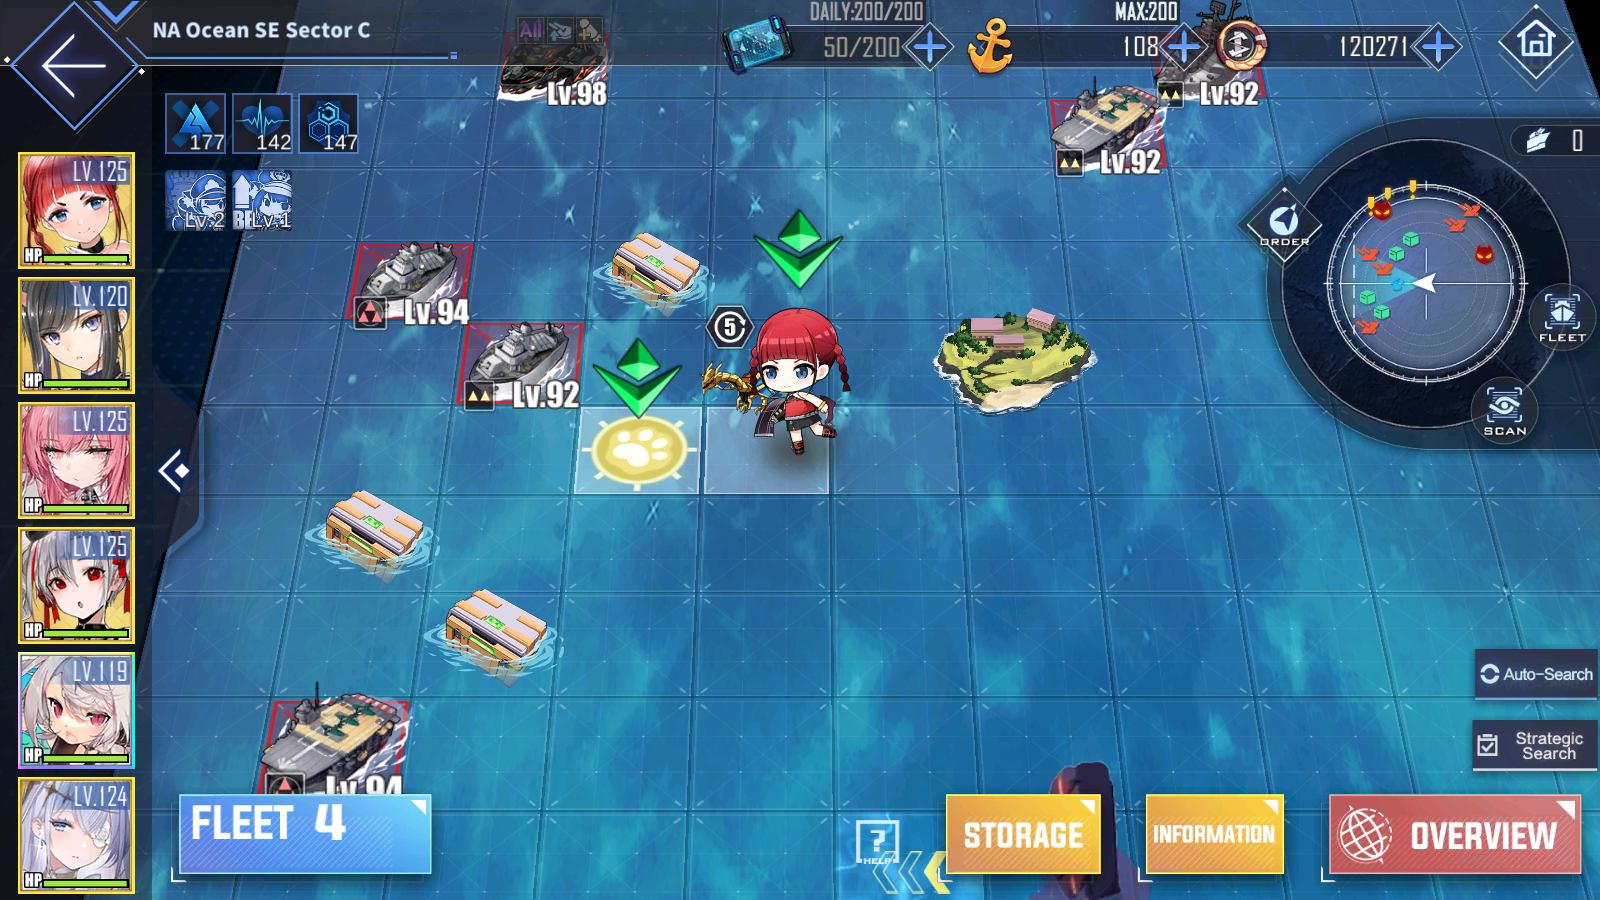ally: (709, 205, 855, 479)
enemy: (258, 695, 408, 810), (1154, 3, 1266, 105), (455, 321, 582, 409), (342, 240, 470, 324), (1048, 85, 1168, 171), (496, 13, 607, 107)
